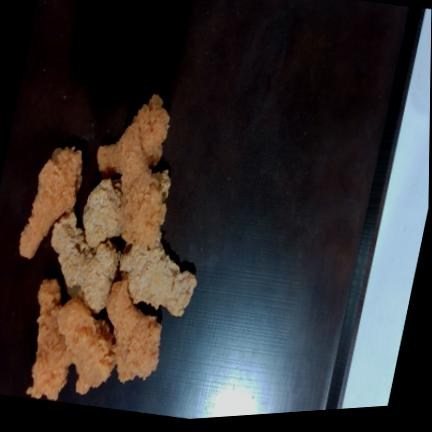chicken: (51, 211, 121, 313), (20, 147, 83, 258), (120, 242, 197, 316), (106, 280, 161, 383), (121, 123, 166, 248), (57, 299, 116, 394), (27, 279, 71, 400), (131, 94, 170, 167), (83, 178, 123, 247)
